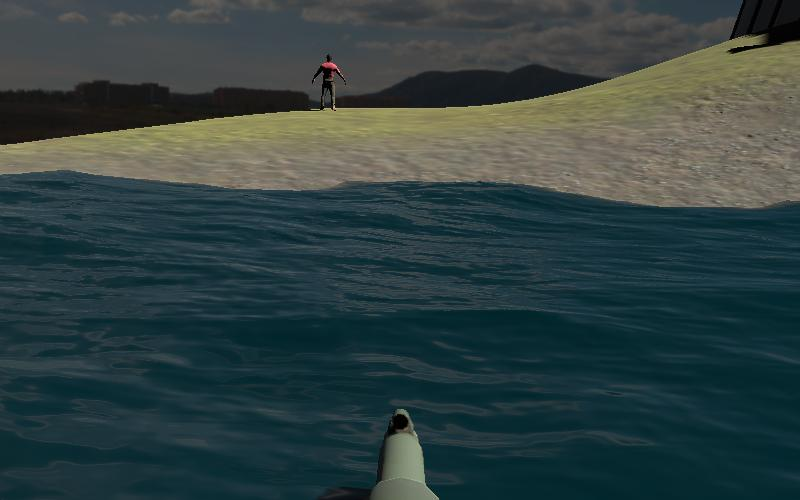Human: (312, 52, 346, 112)
